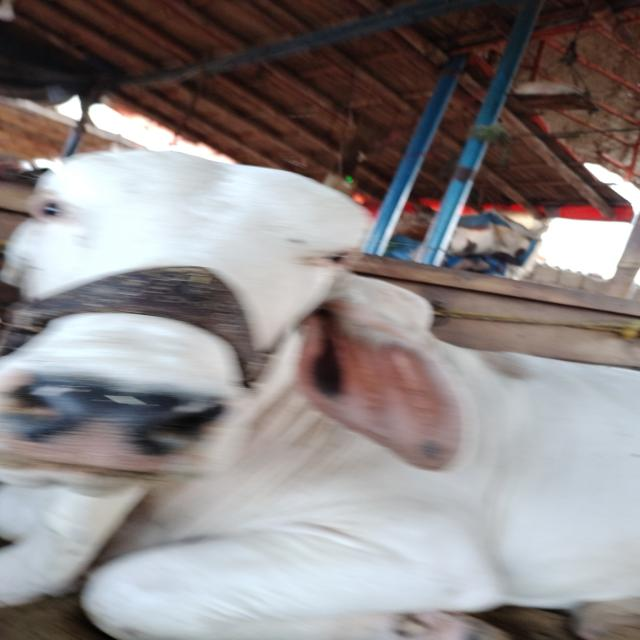muzzles: (8, 367, 234, 477)
